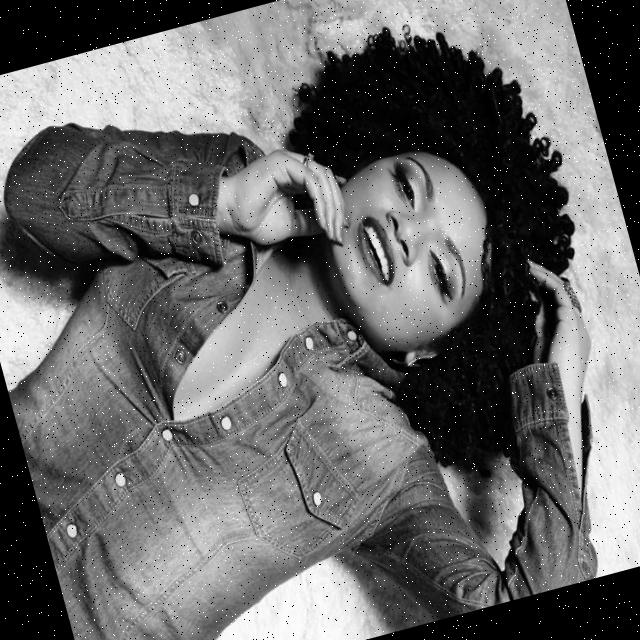Happiness: (303, 130, 519, 368)
